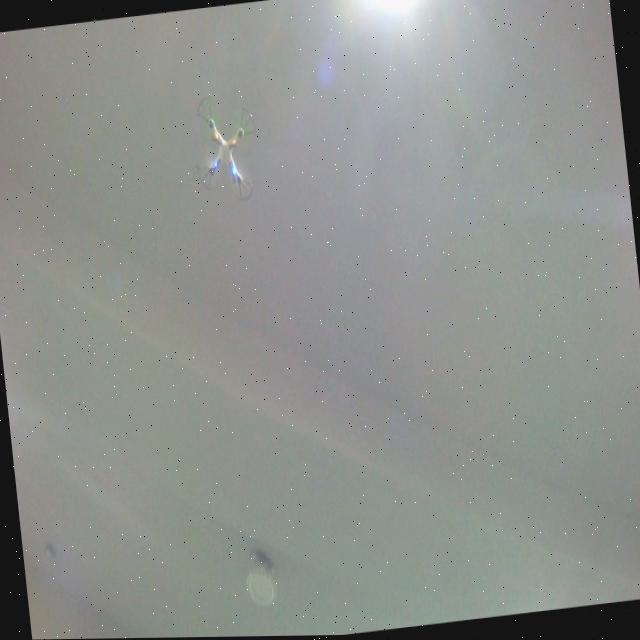drone: (186, 87, 266, 209)
